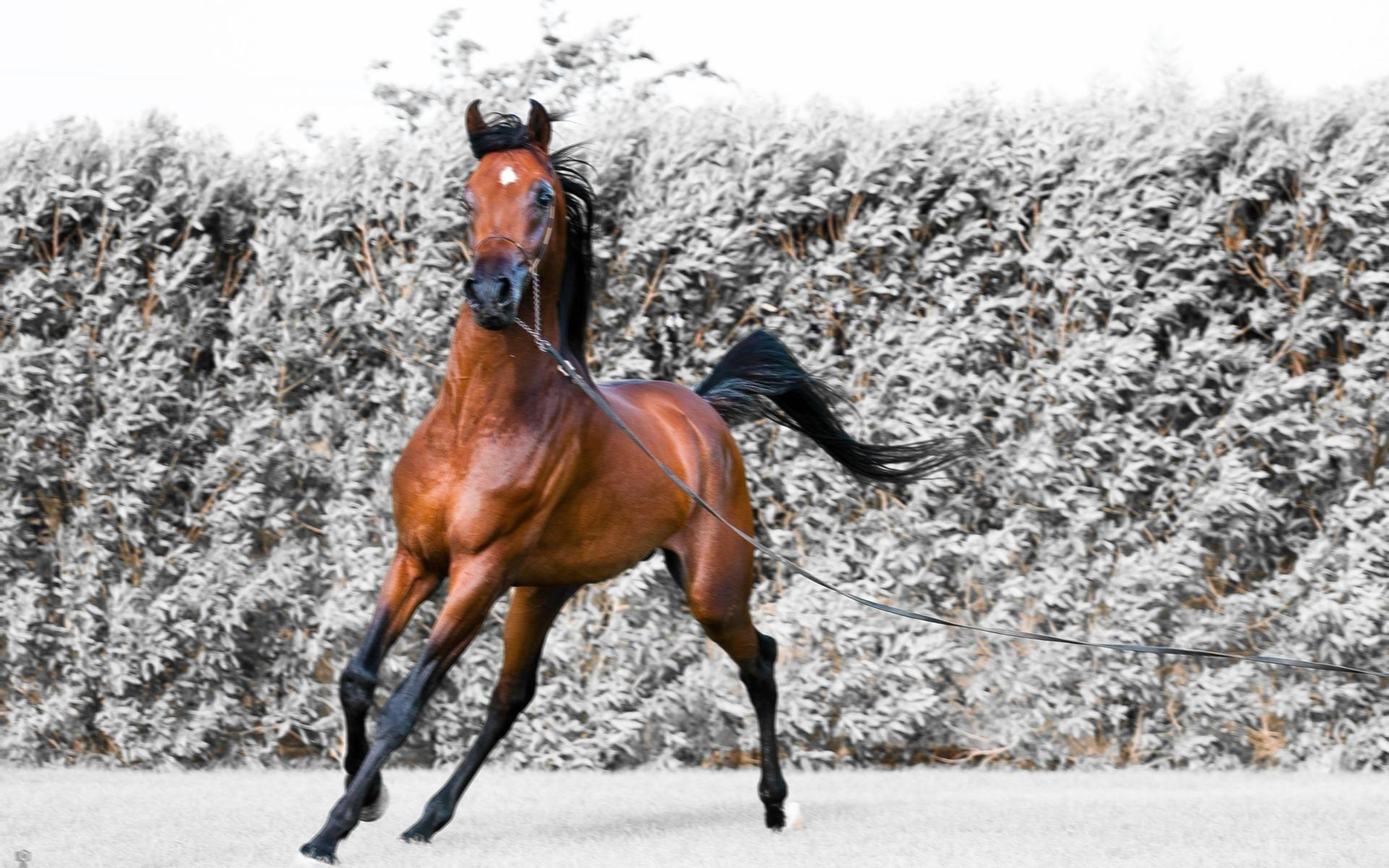horse: (295, 87, 930, 868)
